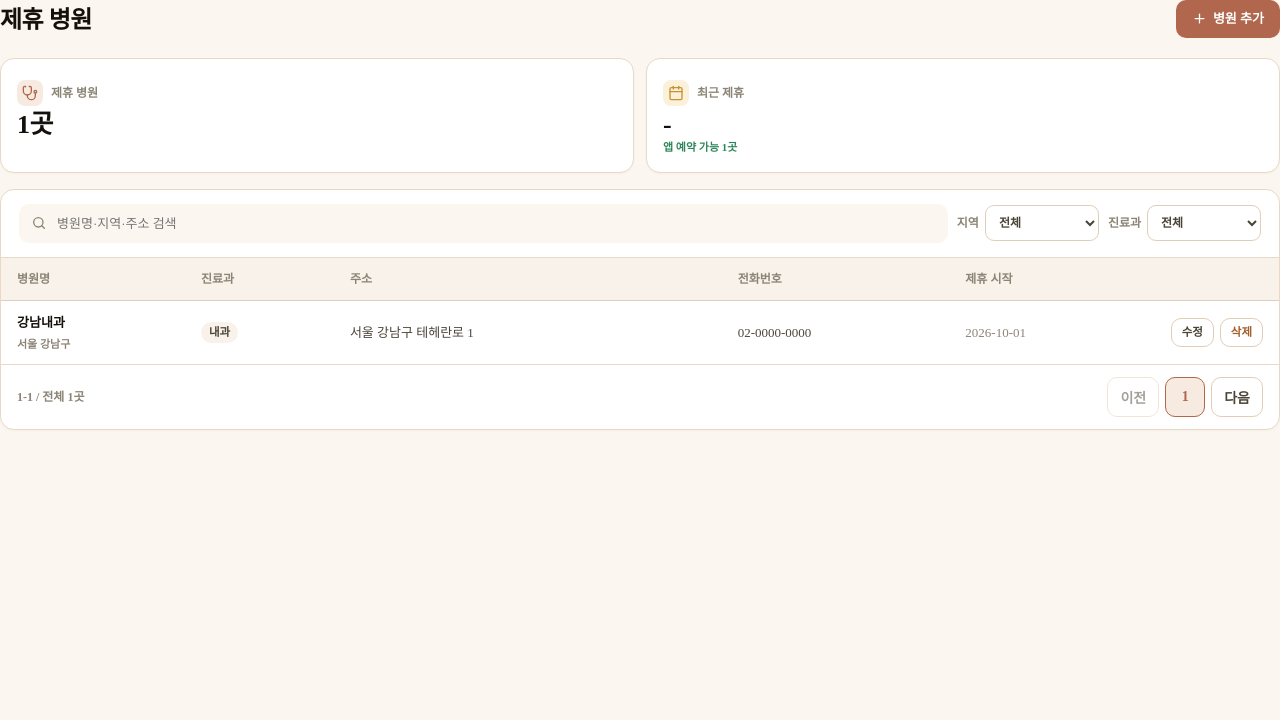
AdminHospitalsContent 입력칸 이름 (Chrome) › 병원 추가 창의 진료 시간·진료과 입력칸을 이름으로 찾을 수 있다
Click the button "병원 추가" at (1228,19), box top-left (1176, 0), bottom-right (1279, 38)
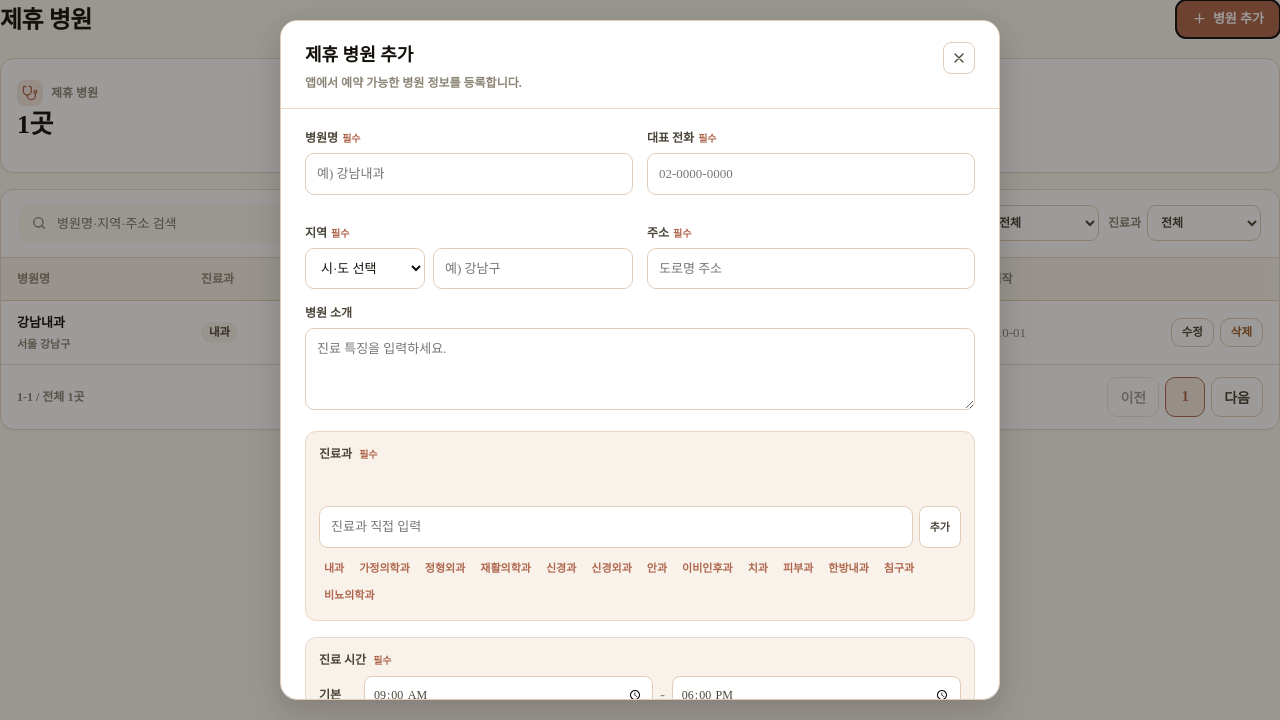
Expected: the time field named "기본 진료 시작 시간" is shown, top-left (364, 676), bottom-right (653, 700)
Expected: the time field named "기본 진료 종료 시간" is shown, top-left (672, 676), bottom-right (961, 700)
Expected: the field labelled "진료과 직접 입력" is shown, top-left (319, 506), bottom-right (913, 548)
